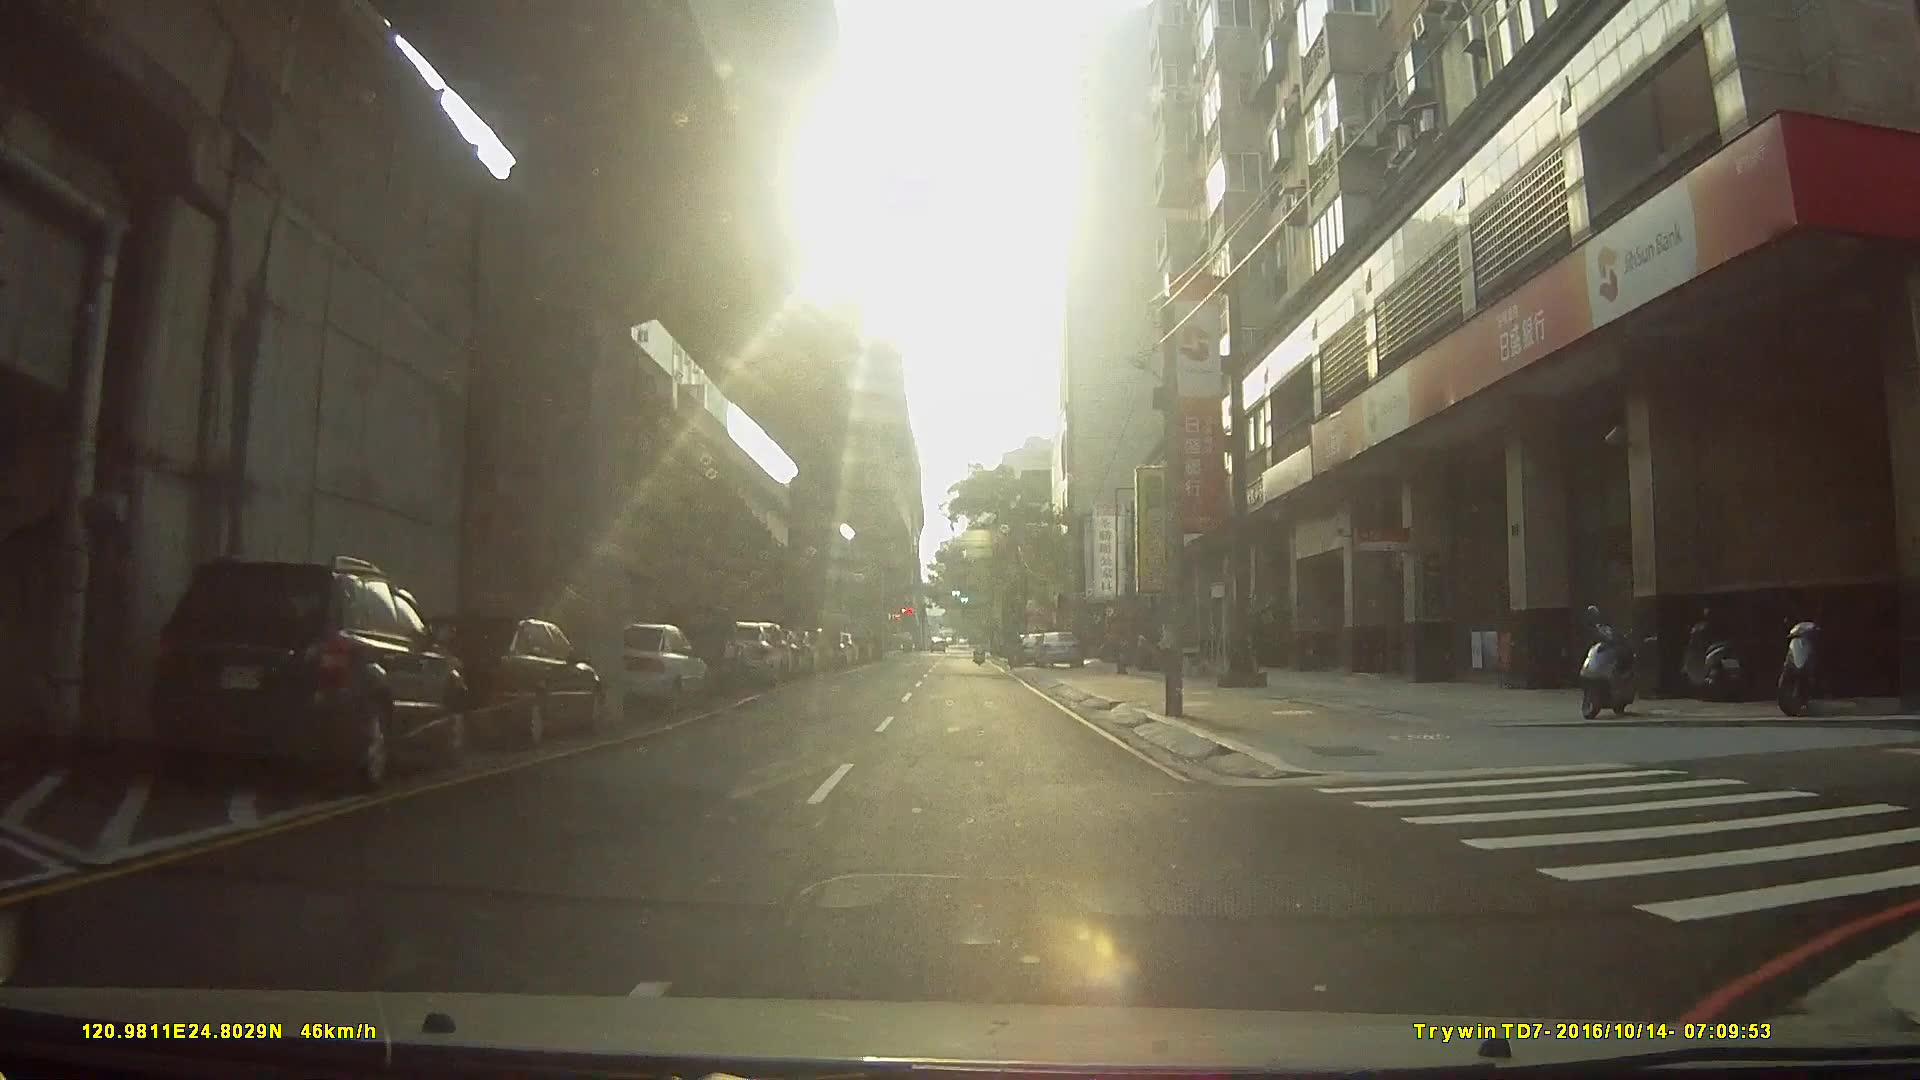vehicle: (145, 554, 465, 796), (417, 611, 605, 753), (599, 620, 712, 719), (659, 620, 794, 670), (1030, 626, 1083, 669)
